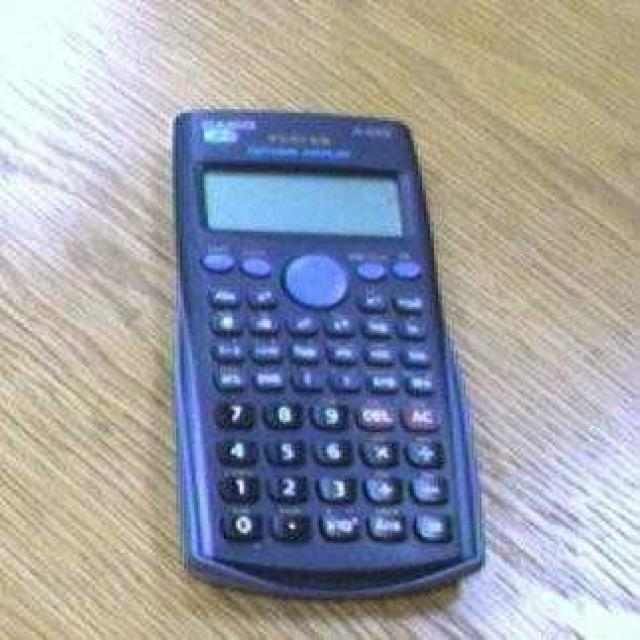Calculator: (168, 105, 486, 600)
